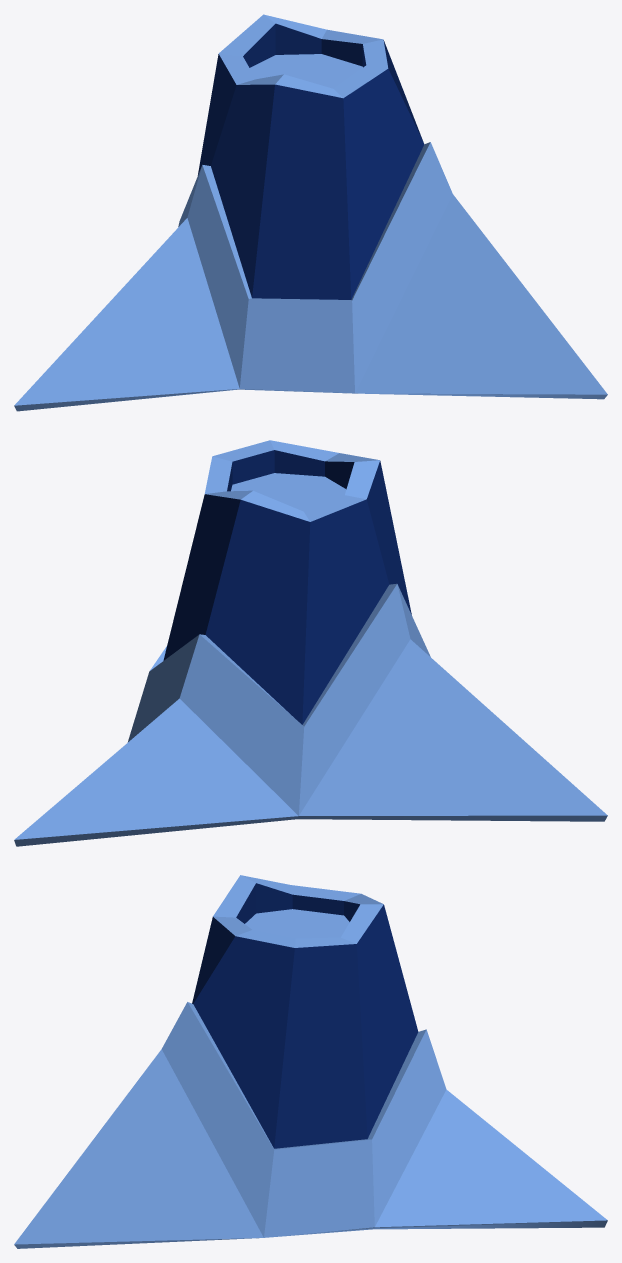
The model's file is Tree_Stump.fbx.
3 views of the same model, one above another, from view 1: azimuth 30°, elevation 25°; view 2: azimuth 150°, elevation 25°; view 3: azimuth 270°, elevation 25° (orthographic). The views are drawn at different scales.
Visible parts, largest first — view 1: Tree_Strump; view 2: Tree_Strump; view 3: Tree_Strump.
Part boxes in pixels (x1,y1,x2,y2): Tree_Strump: [14, 14, 607, 411]; Tree_Strump: [14, 440, 607, 846]; Tree_Strump: [14, 875, 607, 1248].
Bounding box in the file's own units: 15.58 × 9.29 × 18.1.
